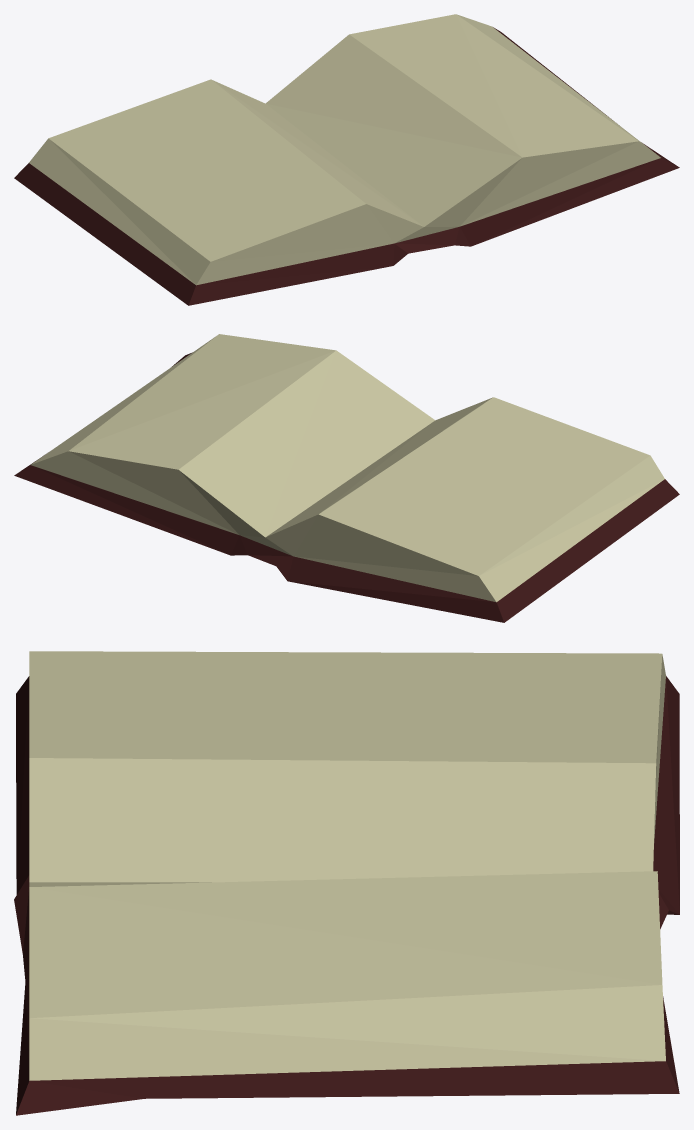
File: Book_Open.fbx
The picture shows the model from 3 angles, top to bottom: view 1: azimuth 30°, elevation 25°; view 2: azimuth 150°, elevation 25°; view 3: azimuth 270°, elevation 25°; orthographic projection. The views are drawn at different scales.
Visible parts, largest first — view 1: Book_Open; view 2: Book_Open; view 3: Book_Open.
Boxes of the visible parts, <box> form: Book_Open: <box>14,14,679,305</box>; Book_Open: <box>14,334,679,622</box>; Book_Open: <box>14,651,679,1115</box>.
Size of the model in its own units: 154 by 23.93 by 95.1.
